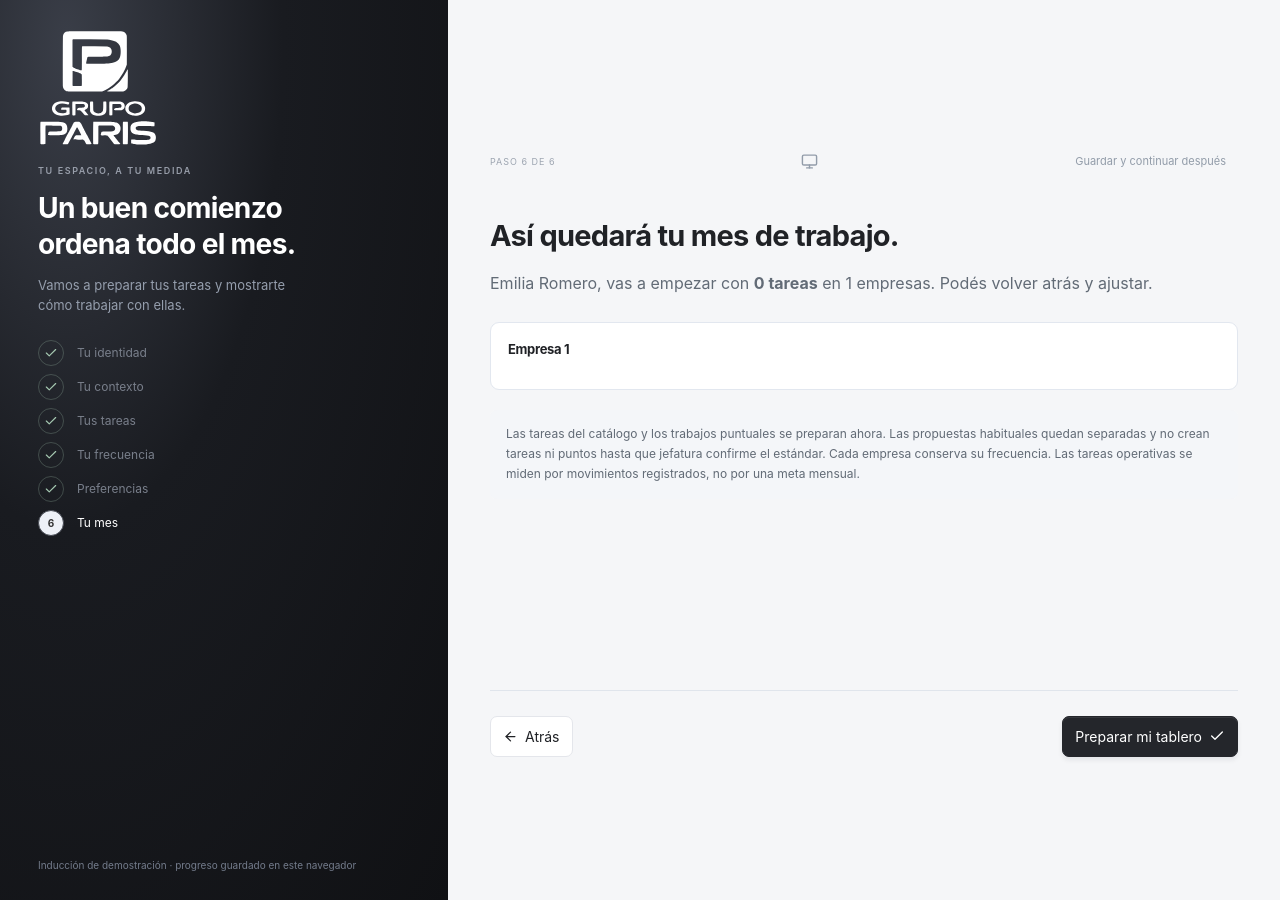
Test case: integración de propuestas en la inducción › conserva selecciones v1 del borrador pero no materializa nombres neutrales como tareas nuevas
Click the button "Preparar mi tablero" at {"x": 1150, "y": 736}, box [1062,716,1238,756]
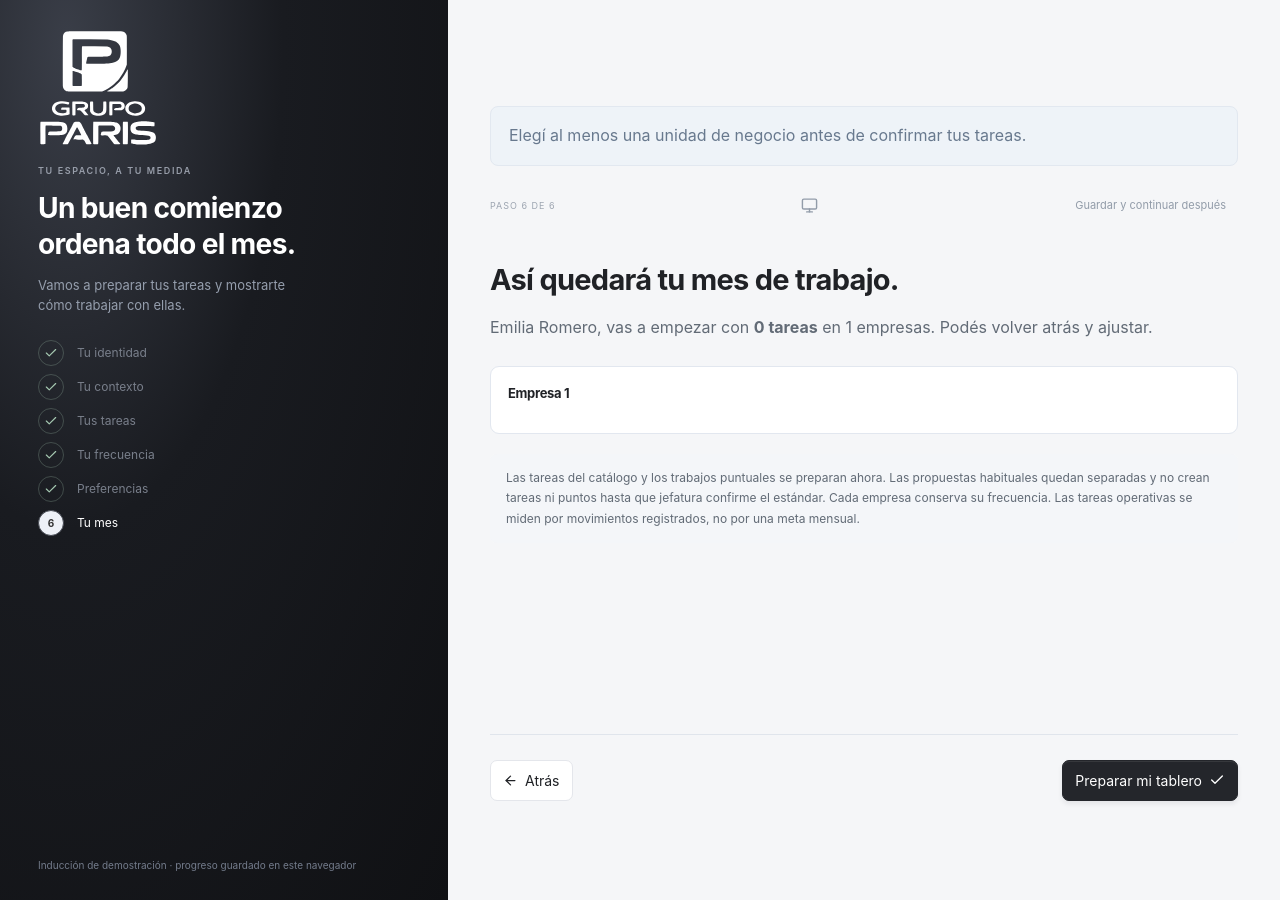
expect the text "Elegí al menos una unidad de negocio antes de confirmar tus tareas." is shown: met, box [490,106,1238,166]
